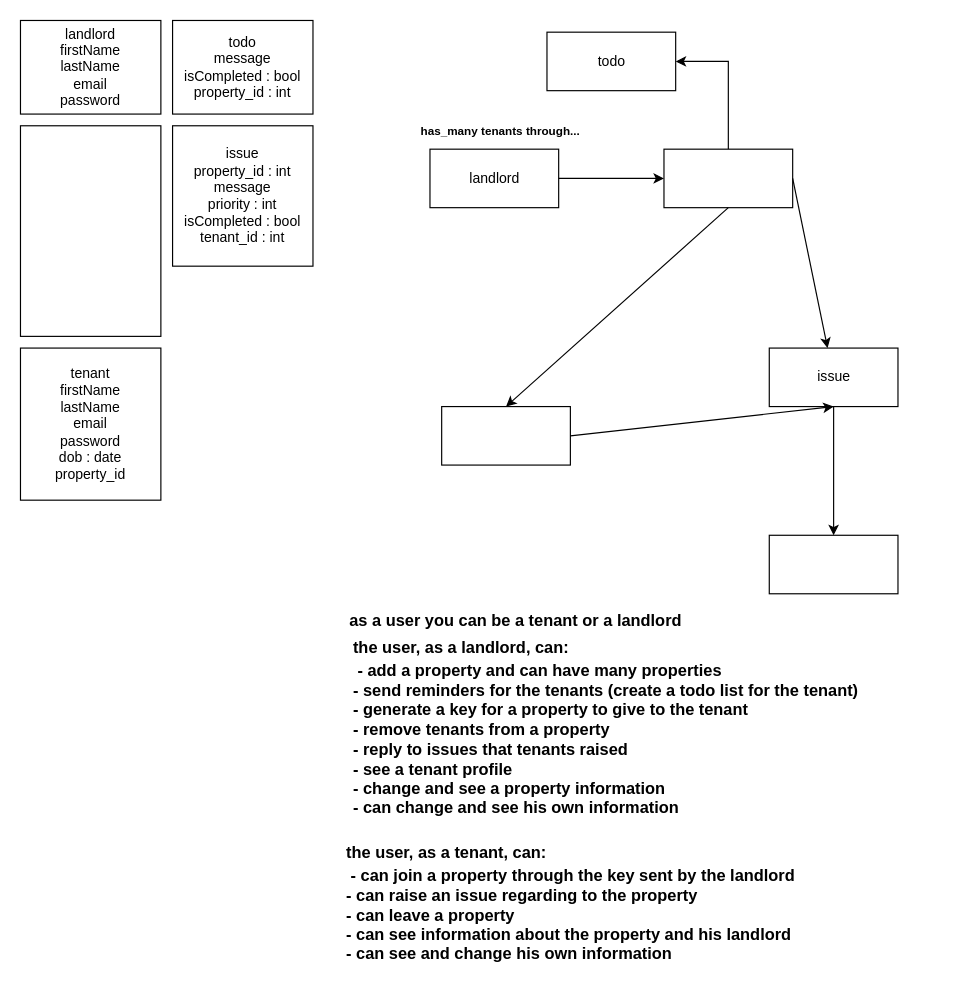
The diagram is 954 pixels wide and 984 high, and some of its shapes have lost their labels. Here are the shapes that lost their labels. From the top down, the centre of each, then its label:
pixel 728 178: property
pixel 90 230: property address landlord_id : int rooms : int blueprint picture
pixel 505 435: tenant
pixel 833 564: messages
